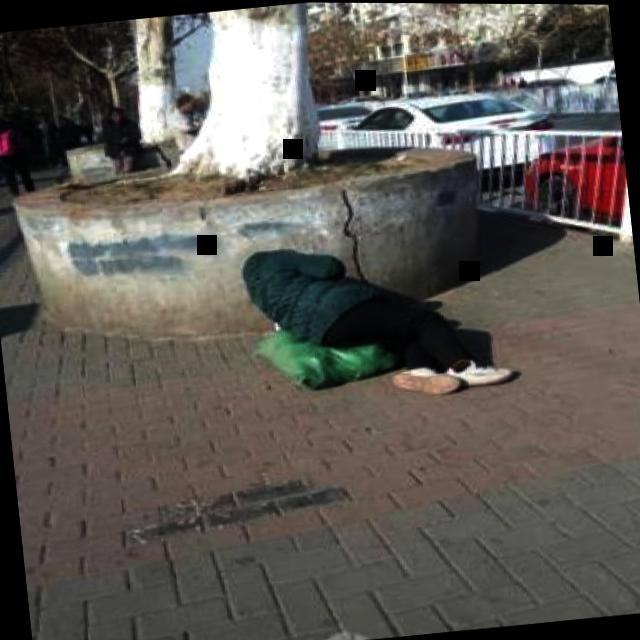Fall-Detected: (218, 208, 544, 416)
